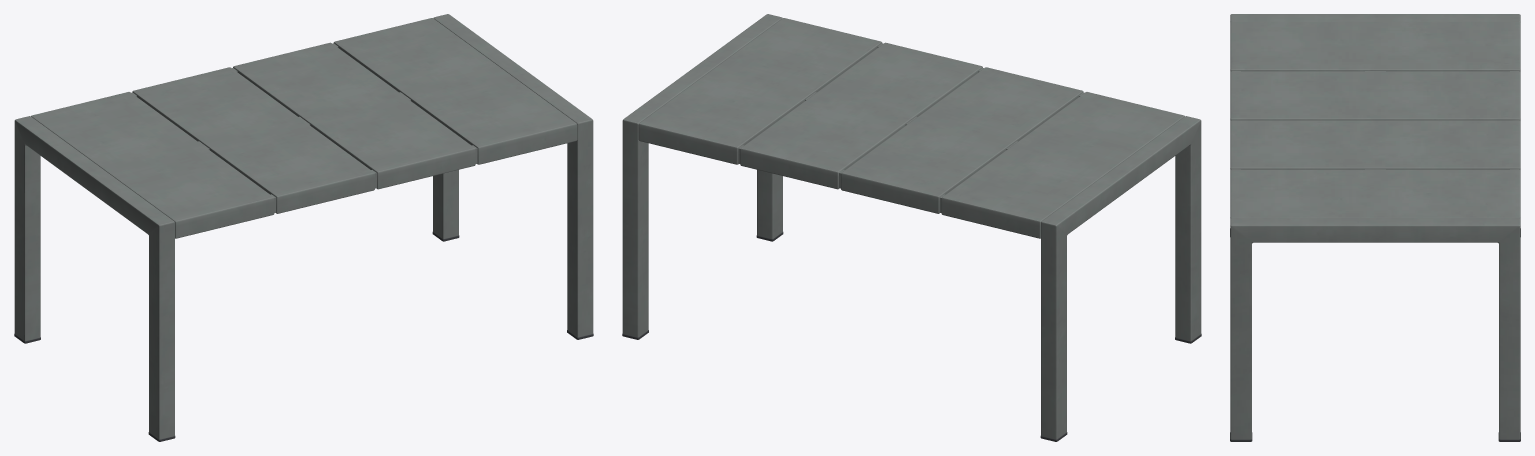
The model's file is abo-B082VSYX39.glb.
The picture shows the model from 3 angles, left to right: view 1: azimuth 30°, elevation 25°; view 2: azimuth 150°, elevation 25°; view 3: azimuth 270°, elevation 25°; orthographic projection.
Bounding box in the file's own units: 0.965 × 0.46 × 0.559.
1 material, 1 textured.
